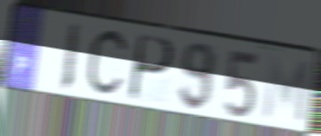5: (221, 46, 263, 120)
9: (178, 40, 219, 115)
C: (83, 26, 131, 101)
I: (58, 22, 82, 95)
M: (260, 53, 312, 128)
P: (126, 32, 177, 105)
